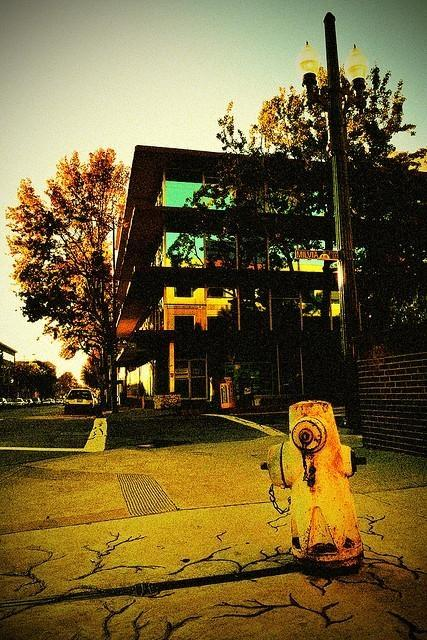car: (64, 389, 97, 413), (16, 397, 26, 408), (1, 398, 12, 407), (33, 398, 42, 406), (24, 399, 34, 404)
